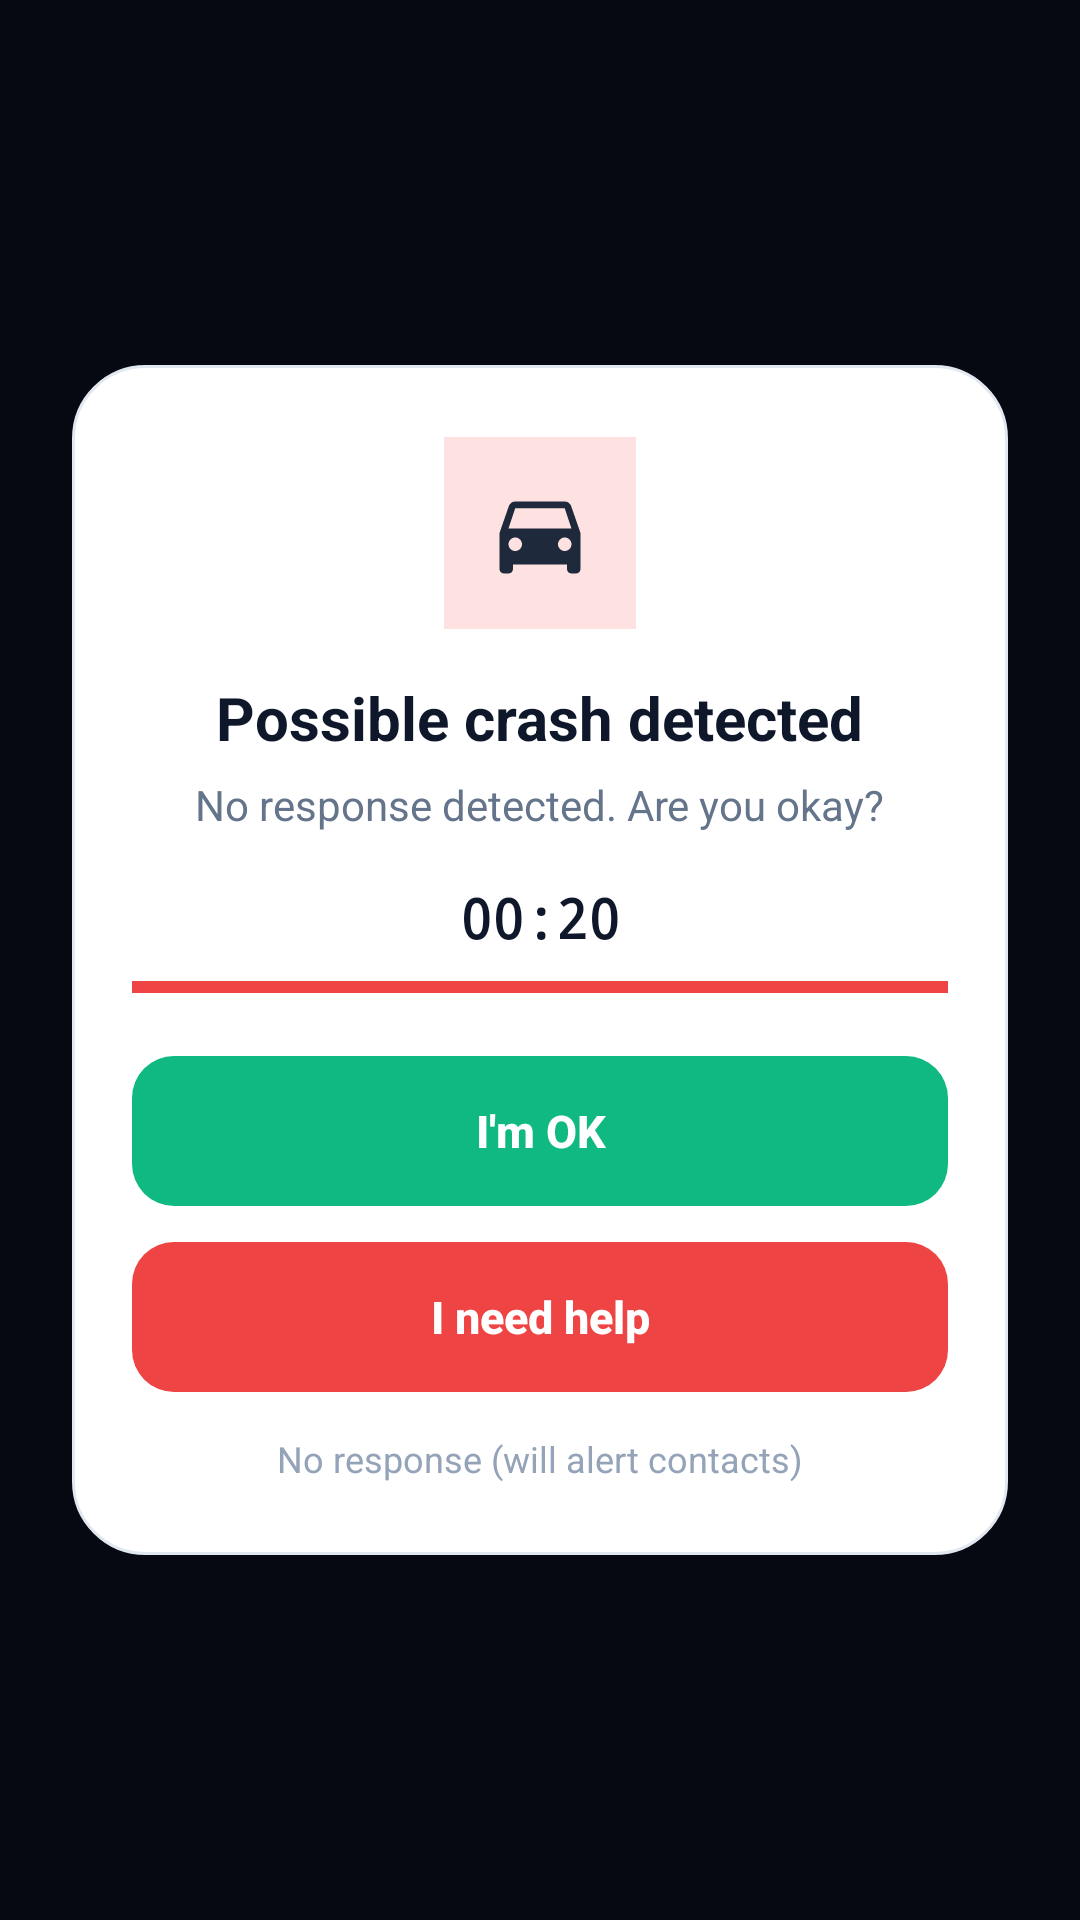

Icon click points for this 1080w x 1920h phone screenshot, format (x,y):
car: (540,537)
